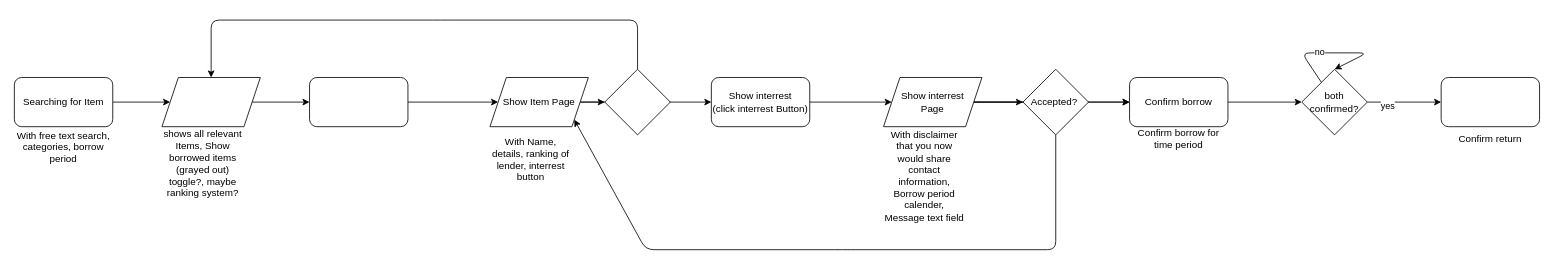
The diagram is 1554 pixels wide and 271 high, and some of its shapes have lost their labels. Here are the shapes that lost their labels. From the top down, the box of each, then its label:
(161, 77, 260, 127): Item list
(309, 77, 408, 127): Select Item
(604, 68, 670, 135): want to borrow?
(1440, 77, 1540, 127): Confirm return borrow
